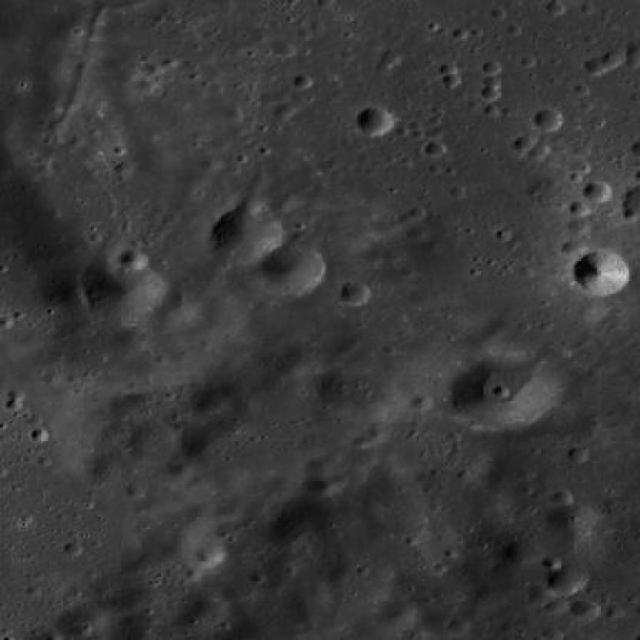crater: (449, 350, 557, 432), (316, 362, 401, 426), (81, 260, 164, 322), (212, 208, 282, 262), (328, 560, 394, 609), (259, 246, 324, 294), (37, 268, 100, 314), (324, 204, 384, 250), (572, 252, 628, 294), (266, 508, 320, 548), (126, 422, 179, 462), (54, 603, 106, 640), (223, 266, 271, 302), (546, 504, 592, 540), (273, 343, 319, 379), (150, 298, 196, 332), (185, 591, 228, 624), (374, 598, 417, 630), (194, 296, 237, 326), (187, 388, 227, 418), (546, 564, 586, 594), (113, 326, 152, 354), (356, 106, 392, 136), (180, 502, 217, 530), (110, 391, 146, 418), (338, 280, 372, 306), (504, 540, 536, 563), (163, 462, 194, 484), (534, 108, 563, 130), (571, 598, 600, 620), (119, 249, 147, 271), (304, 476, 332, 498), (527, 583, 555, 605), (585, 181, 613, 202), (197, 546, 223, 566), (304, 456, 330, 476), (582, 58, 607, 77), (218, 502, 244, 520), (562, 239, 586, 258), (446, 616, 469, 635), (272, 40, 296, 58), (324, 472, 348, 490), (568, 216, 590, 235), (512, 134, 536, 151), (410, 394, 433, 411), (124, 480, 147, 497), (310, 584, 333, 601), (600, 51, 622, 68), (135, 76, 157, 93), (546, 596, 568, 613), (378, 49, 400, 66), (568, 202, 590, 218), (568, 444, 588, 460), (200, 155, 220, 171), (0, 0, 2, 2)
